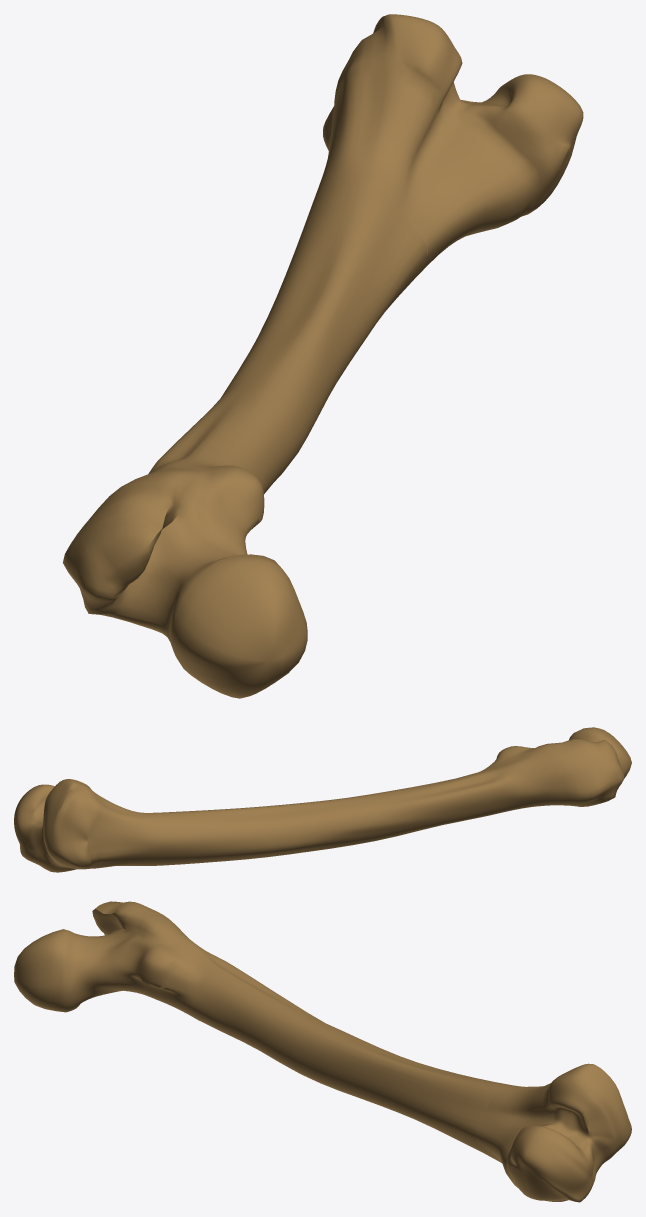
The model's file is BoneV3.FBX.
The picture shows the model from 3 angles, top to bottom: view 1: azimuth 30°, elevation 25°; view 2: azimuth 150°, elevation 25°; view 3: azimuth 270°, elevation 25°; orthographic projection. The views are drawn at different scales.
Visible parts, largest first — view 1: FEMUR; view 2: FEMUR; view 3: FEMUR.
Boxes of the visible parts, x1,y1,x2,y2 form: FEMUR: (63, 14, 583, 698); FEMUR: (14, 727, 631, 872); FEMUR: (14, 901, 631, 1202).
Size of the model in its own units: 10.4 by 2.34 by 10.94.
